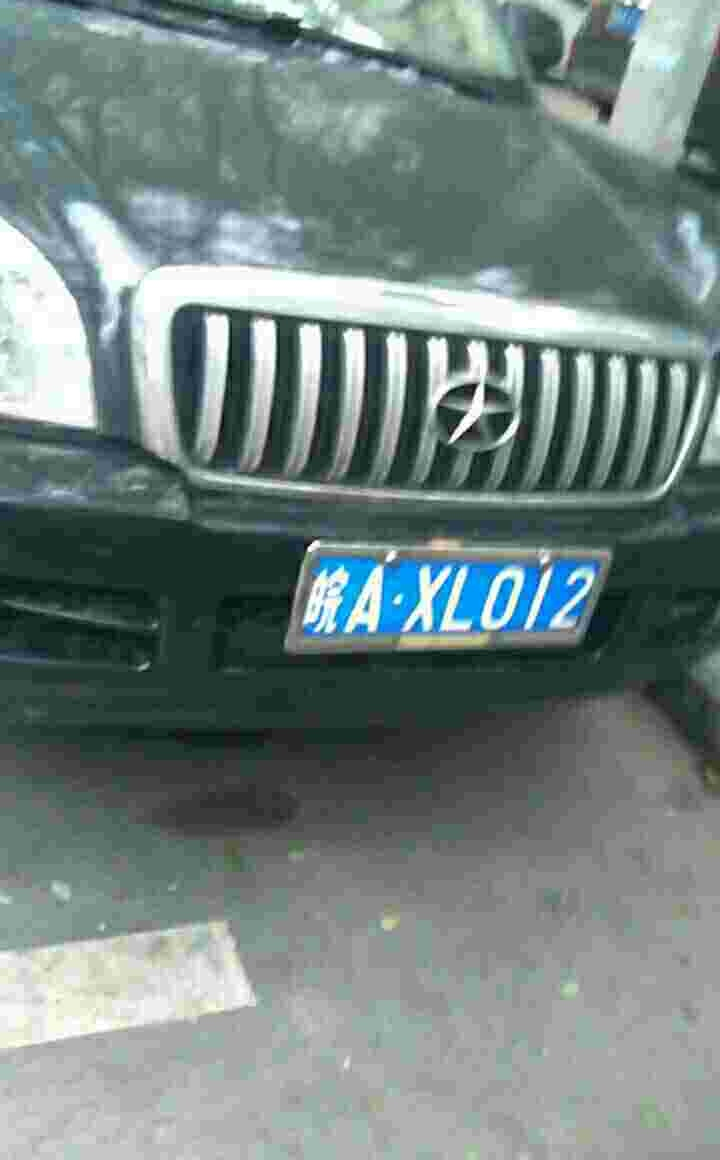license_plate: (308, 551, 613, 640)
